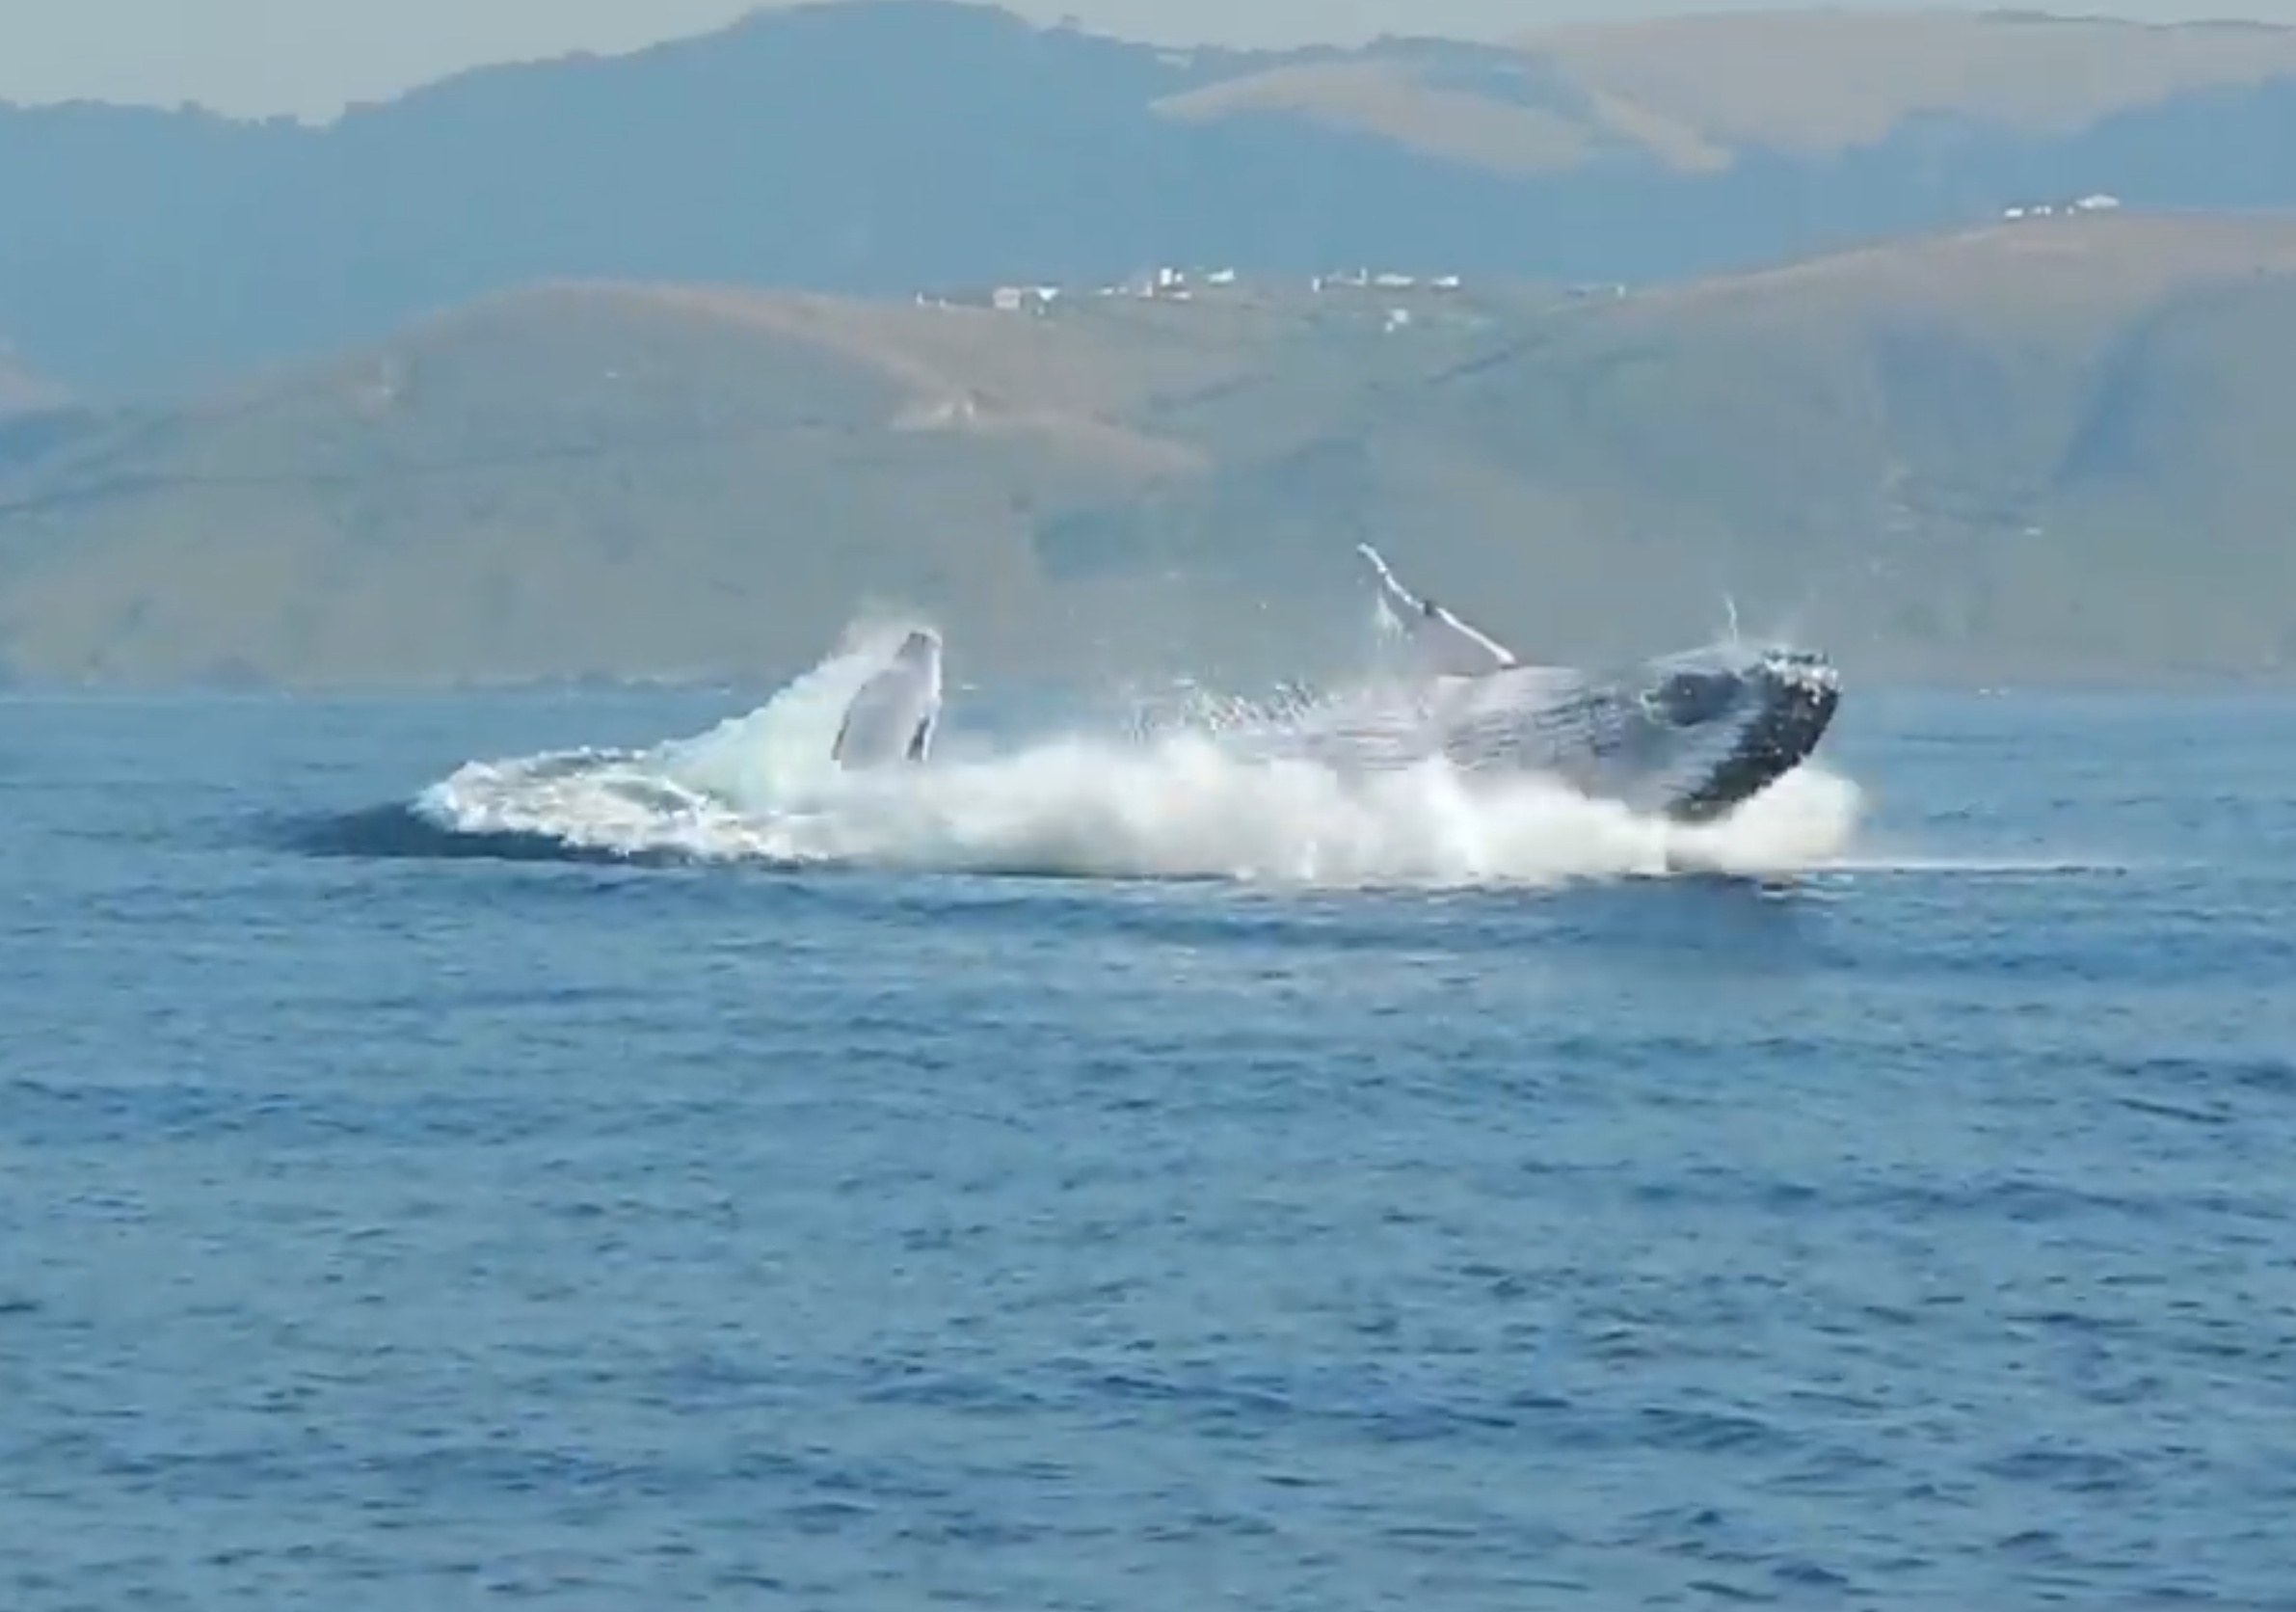humpback: (834, 635, 1835, 841)
